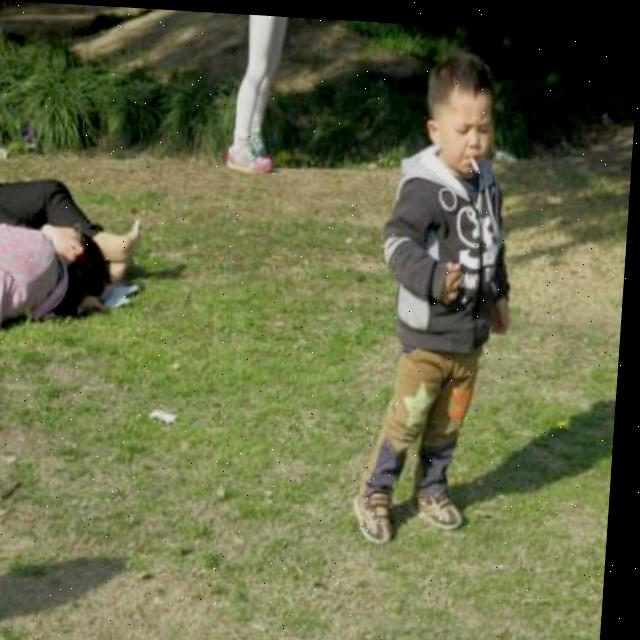cigarette: (470, 150, 484, 171)
